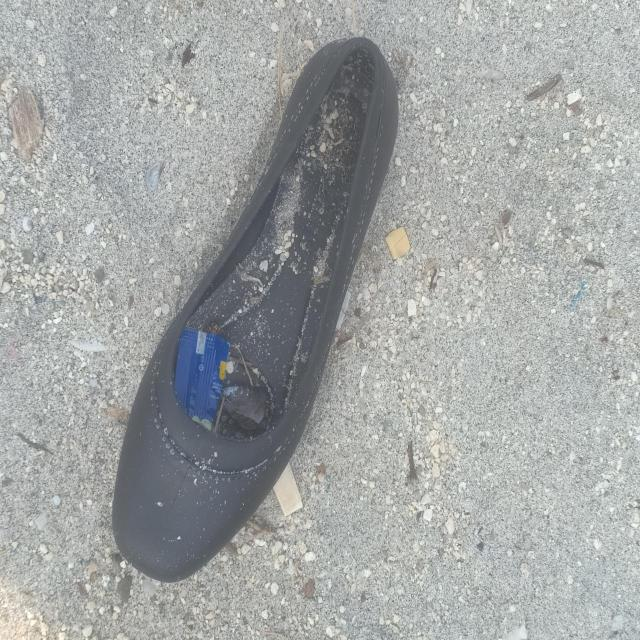rubber_waste: (109, 36, 403, 588)
